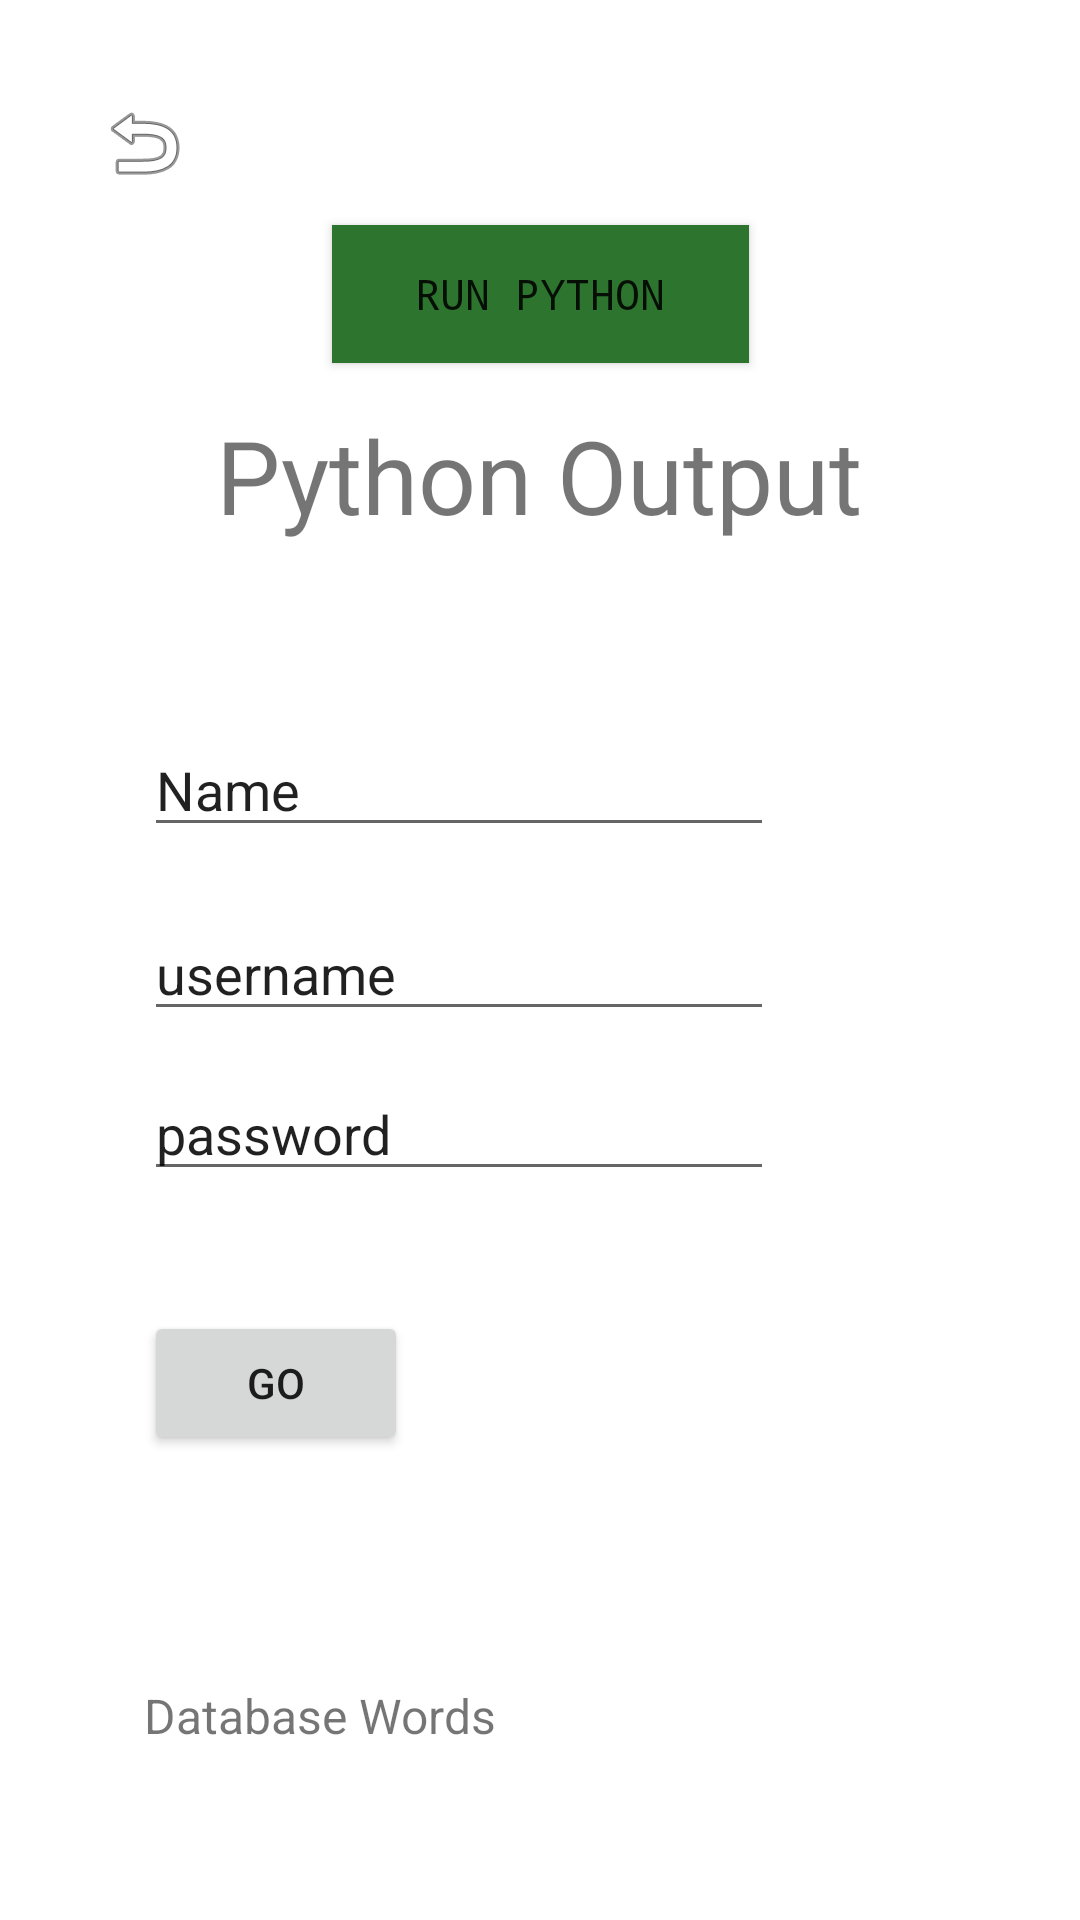

Locate icon controls on the screen. Image size 1080x1920, boxes as (x1, y1, x2, y2).
revert: (111, 112, 180, 175)
